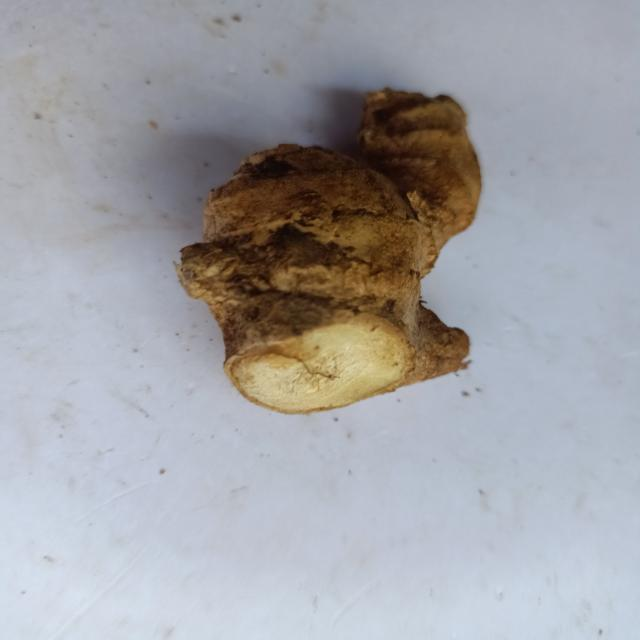Ginger: (176, 88, 481, 414)
